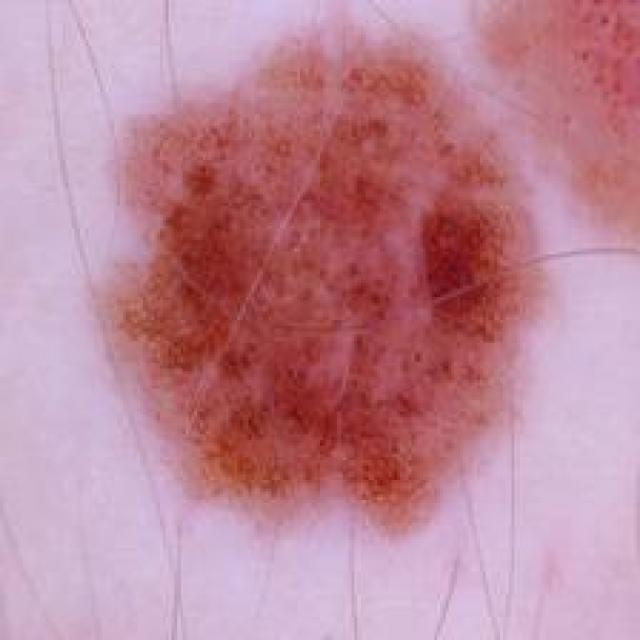Cancer: (103, 14, 543, 534)
